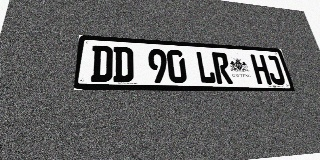0: (166, 49, 187, 83)
9: (148, 48, 169, 83)
D: (90, 45, 113, 82), (113, 46, 134, 82)
H: (250, 54, 272, 84)
J: (264, 55, 286, 85)
L: (195, 51, 217, 84)
R: (211, 52, 233, 84)
